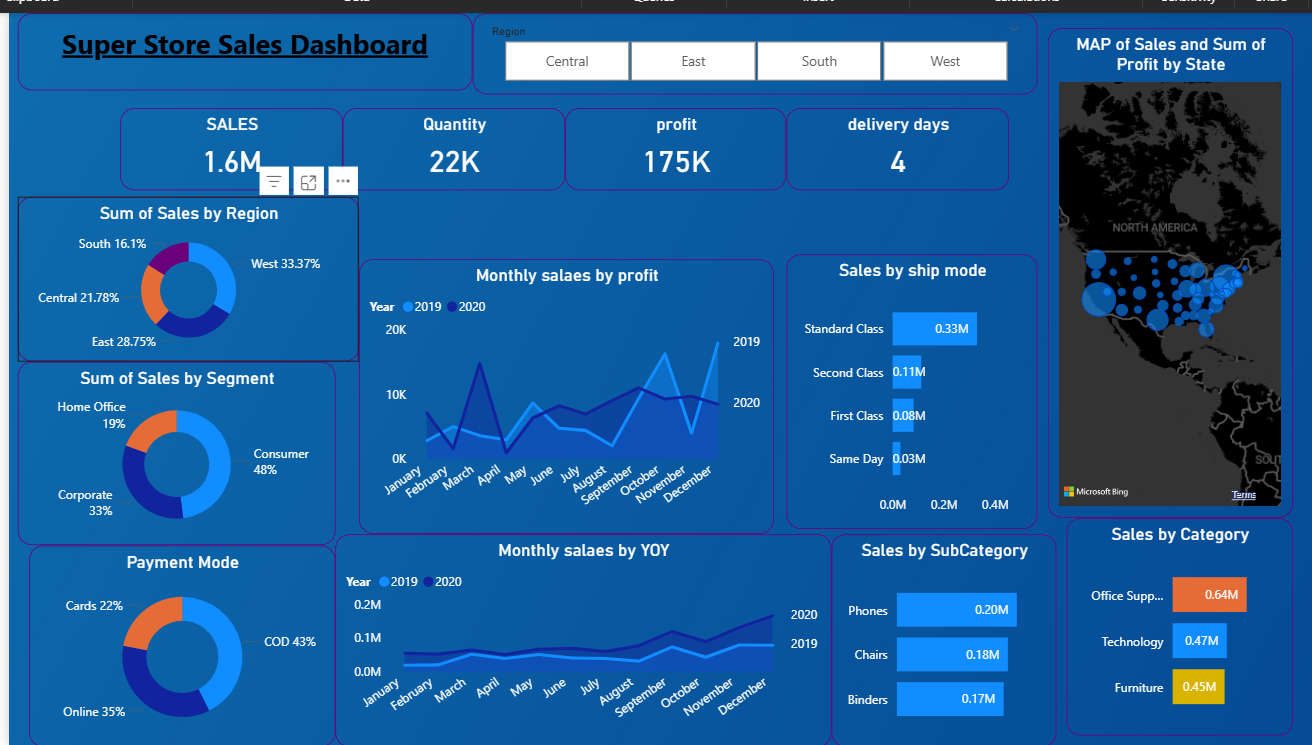

The dashboard page shown, as its layout file describes it:
{"tool":"powerbi","page":{"name":"Page 1","canvas":[1280,720],"ordinal":0},"visuals":[{"type":"clusteredBarChart","title":" Sales by Category","fields":{"Category":["SuperStore_Sales_Dataset.Category"],"Y":["Sum(SuperStore_Sales_Dataset.Sales)"]},"box":[1038,495.7,222.1,213.5],"z":0},{"type":"clusteredBarChart","title":"Sales by SubCategory","fields":{"Category":["SuperStore_Sales_Dataset.Sub-Category"],"Y":["Sum(SuperStore_Sales_Dataset.Sales)"]},"box":[807.4,511.7,220.9,208.6],"z":1000},{"type":"clusteredBarChart","title":"Sales by ship mode","fields":{"Category":["SuperStore_Sales_Dataset.Ship Mode"],"Y":["Sum(SuperStore_Sales_Dataset.Sales)"]},"box":[763.2,236.8,246.6,269.9],"z":2000},{"type":"areaChart","title":" Monthly salaes by YOY","fields":{"Y":["Sum(SuperStore_Sales_Dataset.Sales)"],"Series":["SuperStore_Sales_Dataset.Order Date.Variation.Date Hierarchy.Year"],"Category":["SuperStore_Sales_Dataset.Order Date.Variation.Date Hierarchy.Month","SuperStore_Sales_Dataset.Order Date.Variation.Date Hierarchy.Day"]},"box":[320.2,511.7,487.1,208.6],"z":3000},{"type":"areaChart","title":" Monthly salaes by profit","fields":{"Series":["SuperStore_Sales_Dataset.Order Date.Variation.Date Hierarchy.Year"],"Category":["SuperStore_Sales_Dataset.Order Date.Variation.Date Hierarchy.Month","SuperStore_Sales_Dataset.Order Date.Variation.Date Hierarchy.Day"],"Y":["Sum(SuperStore_Sales_Dataset.Profit)"]},"box":[343.6,241.7,407.4,269.9],"z":4000},{"type":"map","title":"MAP of Sales and Sum of Profit by State","fields":{"Category":["SuperStore_Sales_Dataset.State"],"Size":["Sum(SuperStore_Sales_Dataset.Sales)"]},"box":[1019.6,14.7,240.5,481],"z":5000},{"type":"donutChart","fields":{"Category":["SuperStore_Sales_Dataset.Segment"],"Y":["Sum(SuperStore_Sales_Dataset.Sales)"]},"box":[8.6,342.3,311.7,180.4],"z":6000},{"type":"donutChart","title":" Payment Mode","fields":{"Category":["SuperStore_Sales_Dataset.Segment","SuperStore_Sales_Dataset.Payment Mode"],"Y":["Sum(SuperStore_Sales_Dataset.Sales)"]},"box":[19.6,522.7,300.6,197.5],"z":7000},{"type":"slicer","fields":{"Values":["SuperStore_Sales_Dataset.Region"]},"box":[455.2,0,554.6,79.8],"z":8000},{"type":"textbox","box":[8.6,0,446.6,76.1],"z":9000},{"type":"card","title":"SALES","fields":{"Values":["Sum(SuperStore_Sales_Dataset.Sales)"]},"box":[109.2,93.3,218.4,81],"z":10000},{"type":"card","title":"Quantity","fields":{"Values":["Sum(SuperStore_Sales_Dataset.Quantity)"]},"box":[327.6,93.3,218.4,81],"z":11000},{"type":"card","title":"profit","fields":{"Values":["Sum(SuperStore_Sales_Dataset.Profit)"]},"box":[546,93.3,217.2,81],"z":12000},{"type":"card","title":"delivery days ","fields":{"Values":["Avg(SuperStore_Sales_Dataset.Avgdelivery)"]},"box":[763.2,93.3,218.4,81],"z":13000},{"type":"donutChart","fields":{"Y":["Sum(SuperStore_Sales_Dataset.Sales)"],"Category":["SuperStore_Sales_Dataset.Region"]},"box":[8.6,180.4,335,162],"z":13001}]}

Visuals, with their boxes on the page's 1280x720 design canvas (x1, y1, x2, y2). These are canvas units, not pixel positions in the 1312x745 screenshot, which may show the page scaled, cropped or inside an application window:
" Sales by Category" clusteredBarChart: crop(1038, 496, 1260, 709)
"Sales by SubCategory" clusteredBarChart: crop(807, 512, 1028, 720)
"Sales by ship mode" clusteredBarChart: crop(763, 237, 1010, 507)
" Monthly salaes by YOY" areaChart: crop(320, 512, 807, 720)
" Monthly salaes by profit" areaChart: crop(344, 242, 751, 512)
"MAP of Sales and Sum of Profit by State" map: crop(1020, 15, 1260, 496)
donutChart - SuperStore_Sales_Dataset.Segment x Sum(SuperStore_Sales_Dataset.Sales): crop(9, 342, 320, 523)
" Payment Mode" donutChart: crop(20, 523, 320, 720)
slicer - SuperStore_Sales_Dataset.Region: crop(455, 0, 1010, 80)
textbox: crop(9, 0, 455, 76)
"SALES" card: crop(109, 93, 328, 174)
"Quantity" card: crop(328, 93, 546, 174)
"profit" card: crop(546, 93, 763, 174)
"delivery days " card: crop(763, 93, 982, 174)
donutChart - Sum(SuperStore_Sales_Dataset.Sales) x SuperStore_Sales_Dataset.Region: crop(9, 180, 344, 342)
